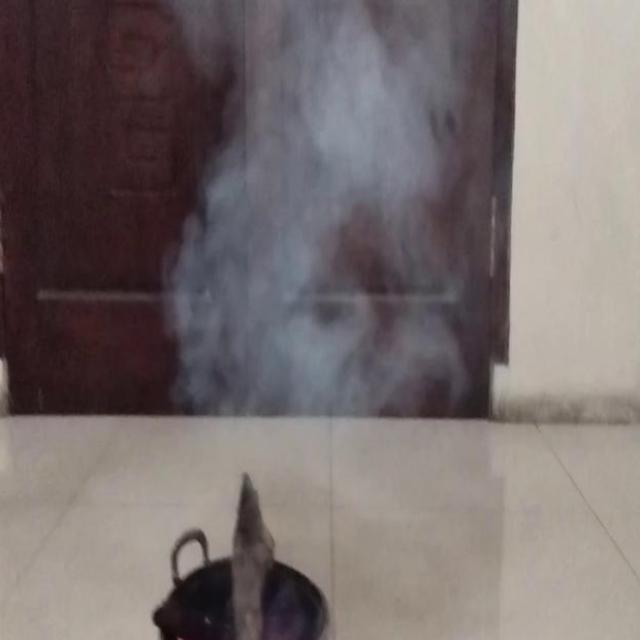fire: (158, 0, 470, 441)
